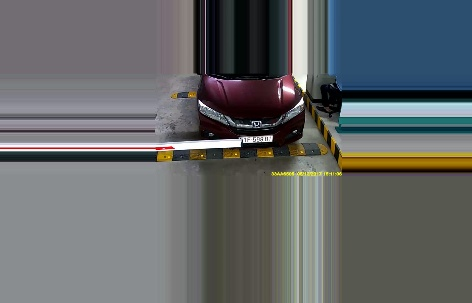plate: (238, 131, 274, 146)
